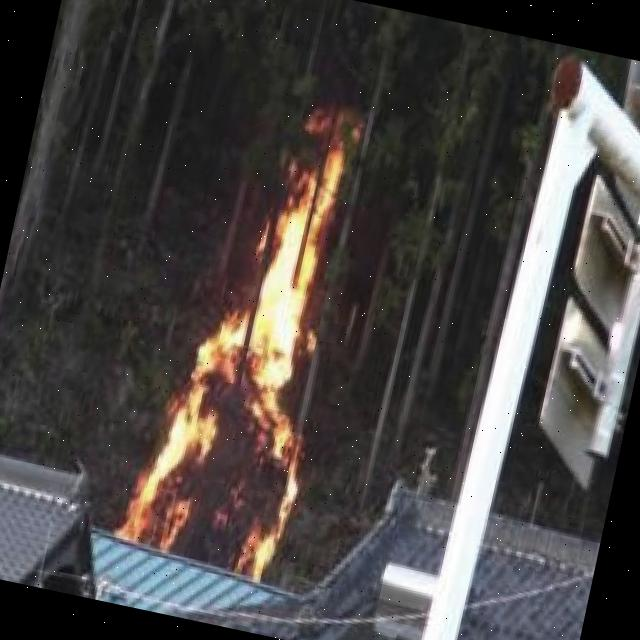fire: (116, 126, 368, 594)
